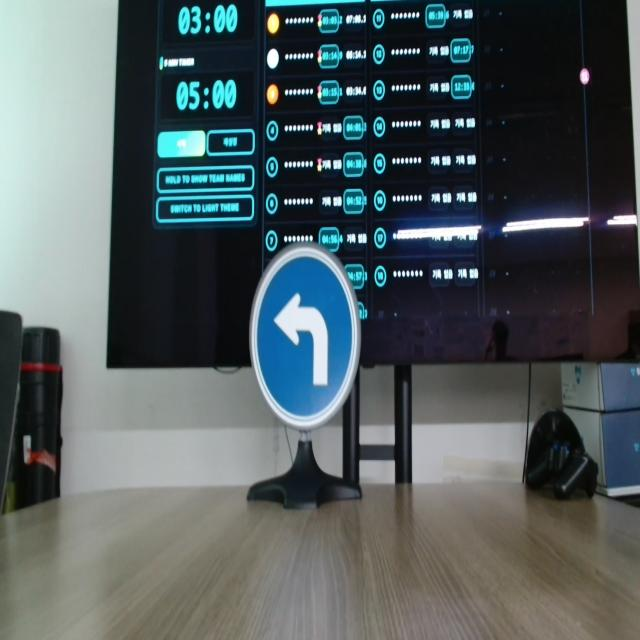left_direction: (242, 235, 380, 446)
